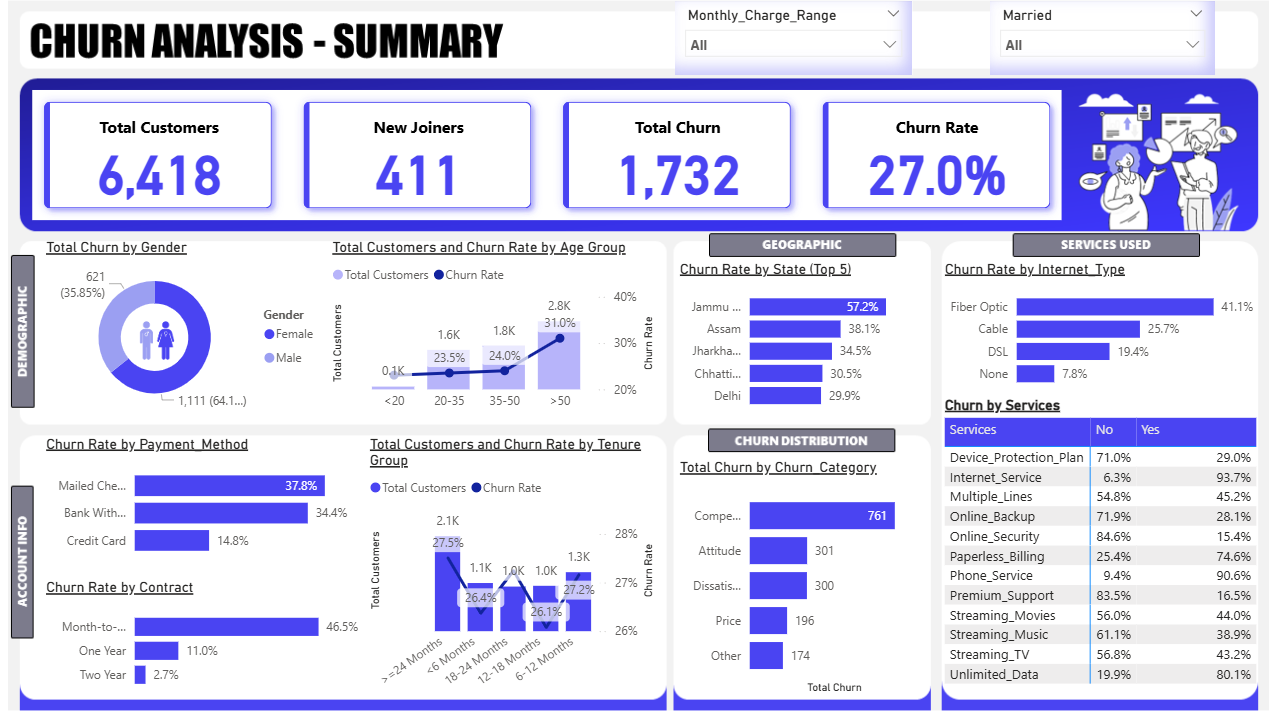

The page's visual inventory and layout, read from the dashboard file:
{"tool":"powerbi","page":{"name":"Summary","canvas":[1500,820],"ordinal":0},"visuals":[{"type":"cardVisual","fields":{"Data":["tbi_measures.Total Customers","tbi_measures.New Joiners","tbi_measures.Total Churn","tbi_measures.Churn Rate"]},"box":[129.2,133.3,1056.6,142.9],"z":0},{"type":"lineStackedColumnComboChart","fields":{"Category":["mapping_AgeGroup.Age Group"],"Y":["tbi_measures.Total Customers"],"Y2":["tbi_measures.Churn Rate"]},"box":[434.2,288.5,336.6,182.7],"z":2000},{"type":"clusteredBarChart","fields":{"Category":["prod_churn.Payment_Method"],"Y":["tbi_measures.Churn Rate"]},"box":[142.9,487.8,328.4,134.7],"z":3000},{"type":"donutChart","fields":{"Category":["prod_churn.Gender"],"Y":["tbi_measures.Total Churn"]},"box":[142.9,288.5,291.3,182.7],"z":3500},{"type":"clusteredBarChart","fields":{"Category":["prod_churn.Contract"],"Y":["tbi_measures.Churn Rate"]},"box":[142.9,633.4,328.4,122.3],"z":4000},{"type":"clusteredBarChart","title":"Churn Rate by State (Top 5)","fields":{"Y":["tbi_measures.Churn Rate"],"Category":["prod_churn.State"]},"box":[785.9,310.5,252.8,160.8],"z":5000},{"type":"clusteredBarChart","fields":{"Category":["prod_churn.Churn_Category"],"Y":["tbi_measures.Total Churn"]},"box":[785.9,512.5,252.8,243.2],"z":6000},{"type":"clusteredBarChart","fields":{"Category":["prod_churn.Internet_Type"],"Y":["tbi_measures.Churn Rate"]},"box":[1055.2,310.5,329.8,138.8],"z":7000},{"type":"pivotTable","title":"Churn by Services","fields":{"Rows":["prod_services.Services"],"Columns":["prod_services.Status"],"Values":["Sum(prod_services.Churn_Status)"]},"box":[1055.2,449.3,329.8,306.4],"z":8000},{"type":"lineStackedColumnComboChart","fields":{"Category":["mapping_tenuregrp.Tenure Group"],"Y":["tbi_measures.Total Customers"],"Y2":["tbi_measures.Churn Rate"]},"box":[471.3,487.8,299.5,267.9],"z":9000},{"type":"slicer","fields":{"Values":["prod_churn.Monthly_Charge_Status"]},"box":[785.9,48.1,240.5,74.2],"z":10000},{"type":"image","box":[203.4,361.4,115.4,60.5],"z":10500},{"type":"slicer","fields":{"Values":["prod_churn.Married"]},"box":[1106.1,48.1,228.1,74.2],"z":11000}]}

Visuals, with their boxes on the page's 1500x820 design canvas (x1, y1, x2, y2). These are canvas units, not pixel positions in the 1269x724 screenshot, which may show the page scaled, cropped or inside an application window:
cardVisual - tbi_measures.Total Customers x tbi_measures.New Joiners: region(129, 133, 1186, 276)
lineStackedColumnComboChart - mapping_AgeGroup.Age Group x tbi_measures.Total Customers: region(434, 288, 771, 471)
clusteredBarChart - prod_churn.Payment_Method x tbi_measures.Churn Rate: region(143, 488, 471, 622)
donutChart - prod_churn.Gender x tbi_measures.Total Churn: region(143, 288, 434, 471)
clusteredBarChart - prod_churn.Contract x tbi_measures.Churn Rate: region(143, 633, 471, 756)
"Churn Rate by State (Top 5)" clusteredBarChart: region(786, 310, 1039, 471)
clusteredBarChart - prod_churn.Churn_Category x tbi_measures.Total Churn: region(786, 512, 1039, 756)
clusteredBarChart - prod_churn.Internet_Type x tbi_measures.Churn Rate: region(1055, 310, 1385, 449)
"Churn by Services" pivotTable: region(1055, 449, 1385, 756)
lineStackedColumnComboChart - mapping_tenuregrp.Tenure Group x tbi_measures.Total Customers: region(471, 488, 771, 756)
slicer - prod_churn.Monthly_Charge_Status: region(786, 48, 1026, 122)
image: region(203, 361, 319, 422)
slicer - prod_churn.Married: region(1106, 48, 1334, 122)
